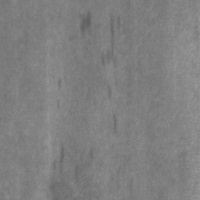inclusion: (97, 14, 126, 72), (49, 143, 85, 188), (75, 8, 97, 40), (106, 109, 123, 141)
